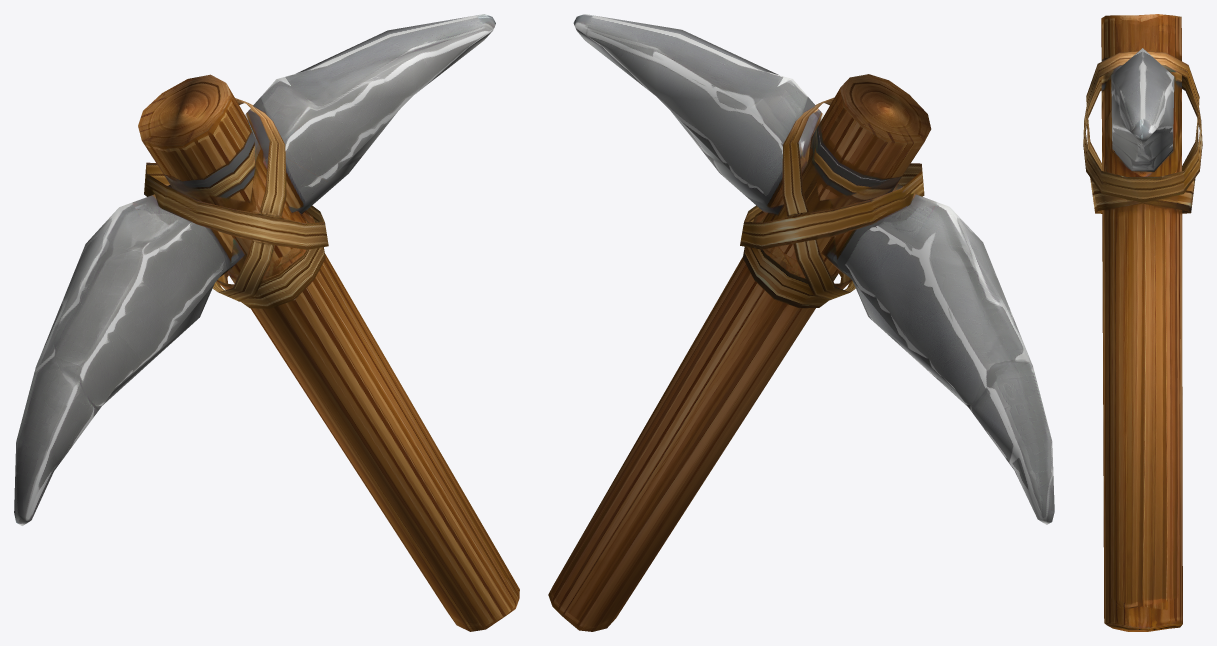
Rendered from Meshy_AI_Stone_Pickaxe_0714134000_texture.fbx.
3 renders of one model, left to right at view 1: azimuth 30°, elevation 25°; view 2: azimuth 150°, elevation 25°; view 3: azimuth 270°, elevation 25°, orthographic. The views are drawn at different scales.
Visible parts, largest first — view 1: Mesh_0; view 2: Mesh_0; view 3: Mesh_0.
Part boxes in pixels (x1=…): Mesh_0: x1=14, y1=14, x2=519, y2=631; Mesh_0: x1=548, y1=14, x2=1054, y2=631; Mesh_0: x1=1083, y1=14, x2=1202, y2=631.
Bounding box in the file's own units: 85.69 × 100 × 20.74.
Materials: 1 (1 with a texture image).
